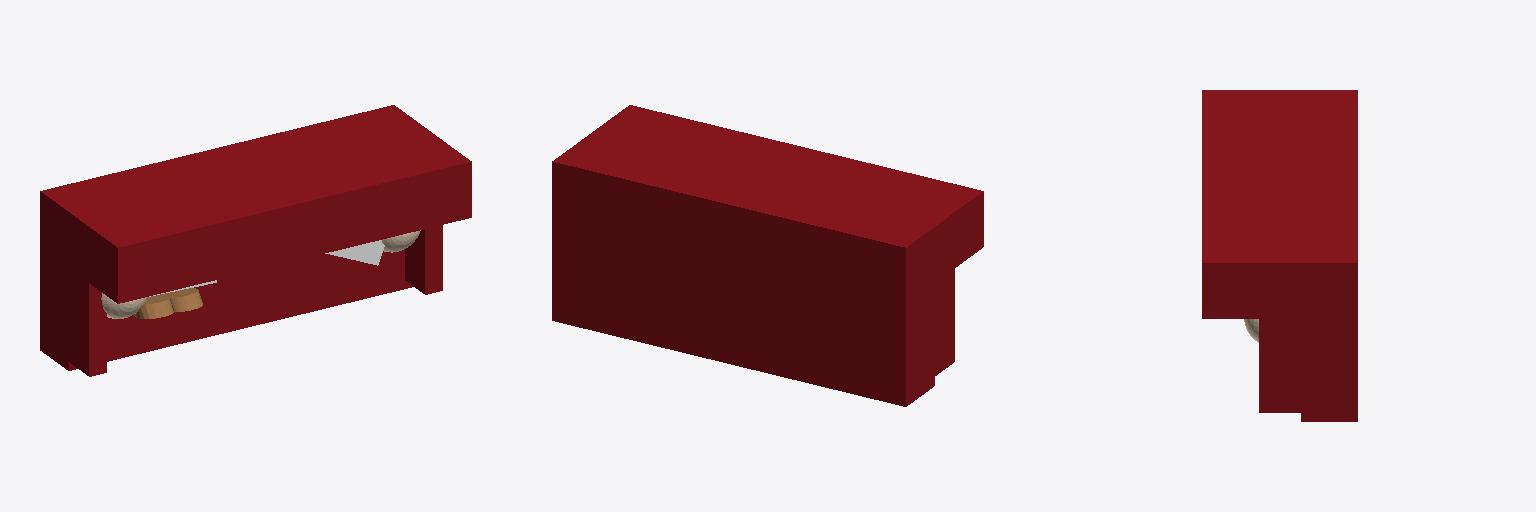
File: tinker.obj
3 views of the same model, side by side, from view 1: azimuth 30°, elevation 25°; view 2: azimuth 150°, elevation 25°; view 3: azimuth 270°, elevation 25° (orthographic).
Parts seen in each view (by area): view 1: obj_0; view 2: obj_0; view 3: obj_0.
Boxes of the visible parts, x1=… form: obj_0: x1=40, y1=105, x2=471, y2=376; obj_0: x1=552, y1=105, x2=983, y2=406; obj_0: x1=1202, y1=90, x2=1357, y2=421.
Bounding box in the file's own units: 79 × 34 × 30.